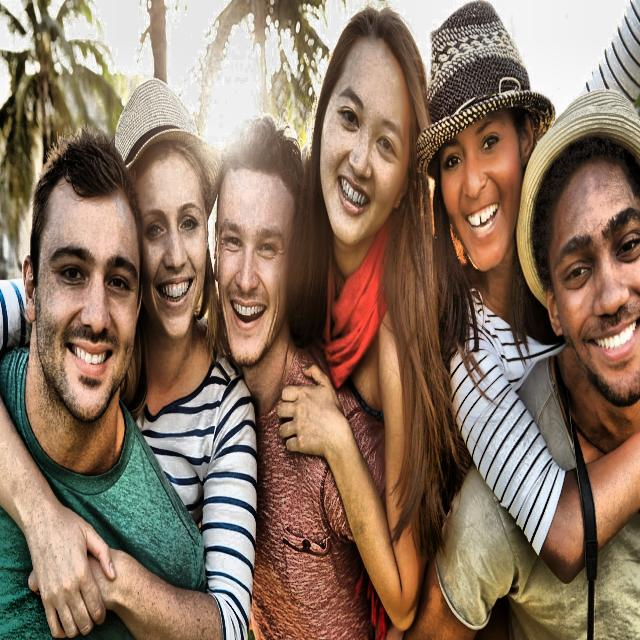Human: (25, 133, 139, 640), (307, 2, 432, 362), (137, 101, 220, 636), (432, 44, 534, 353), (537, 133, 640, 433), (222, 90, 304, 420)
